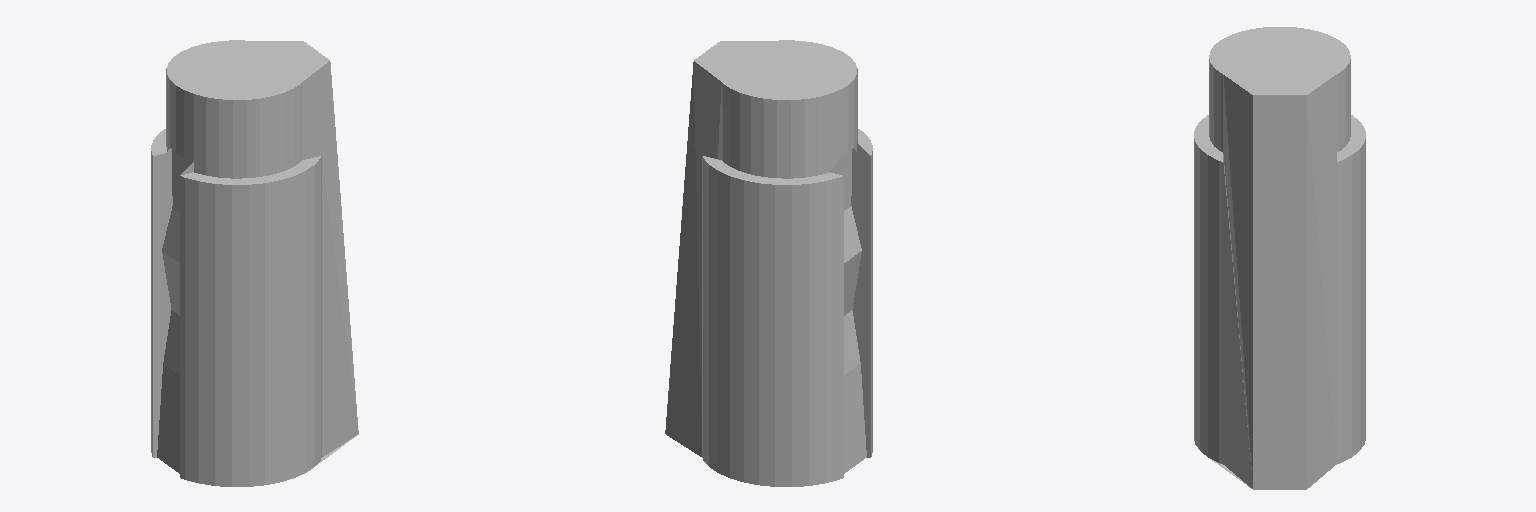
The model's file is Boolean_for_XLR.obj.
3 renders of one model, left to right at view 1: azimuth 30°, elevation 25°; view 2: azimuth 150°, elevation 25°; view 3: azimuth 270°, elevation 25°, orthographic.
Visible parts, largest first — view 1: Cylinder.001; view 2: Cylinder.001; view 3: Cylinder.001.
Part boxes in pixels (x1,y1,x2,y2): Cylinder.001: (151, 40, 358, 486); Cylinder.001: (665, 40, 872, 486); Cylinder.001: (1194, 27, 1365, 489).
Bounding box in the file's own units: 0.0173 × 0.0353 × 0.0145.